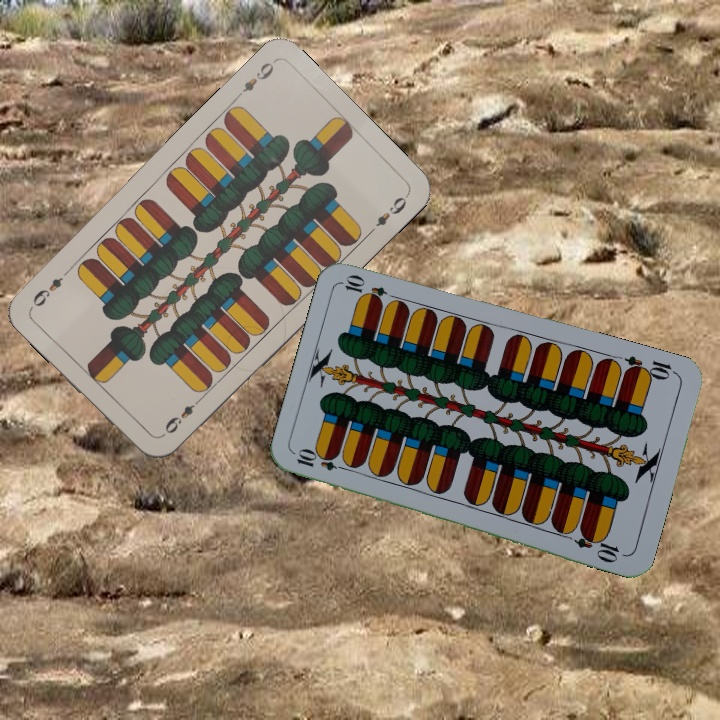E10: (620, 351, 680, 383), (292, 448, 352, 474)
E9: (231, 58, 276, 102), (160, 394, 204, 437)
